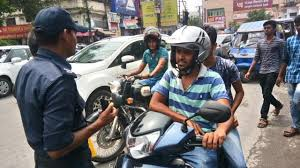helmet: (166, 25, 214, 75)
